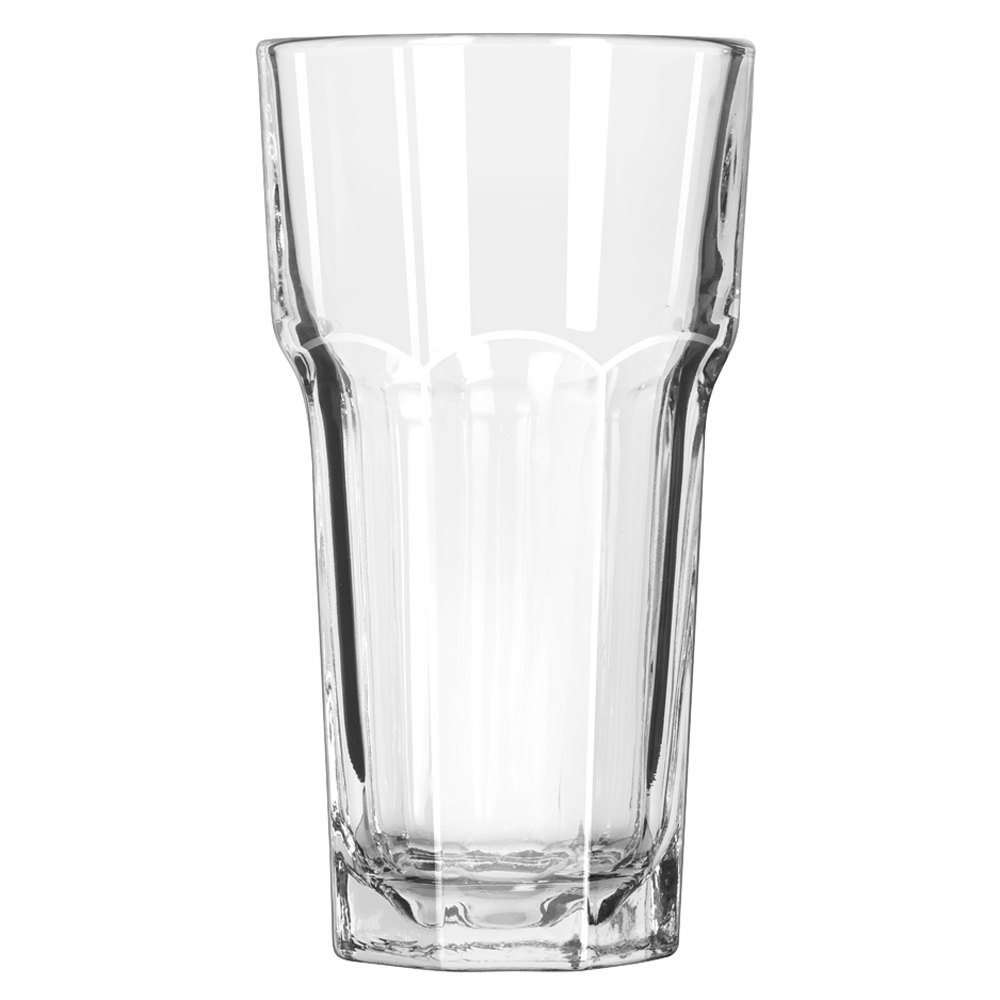glass of water: (243, 18, 735, 975)
